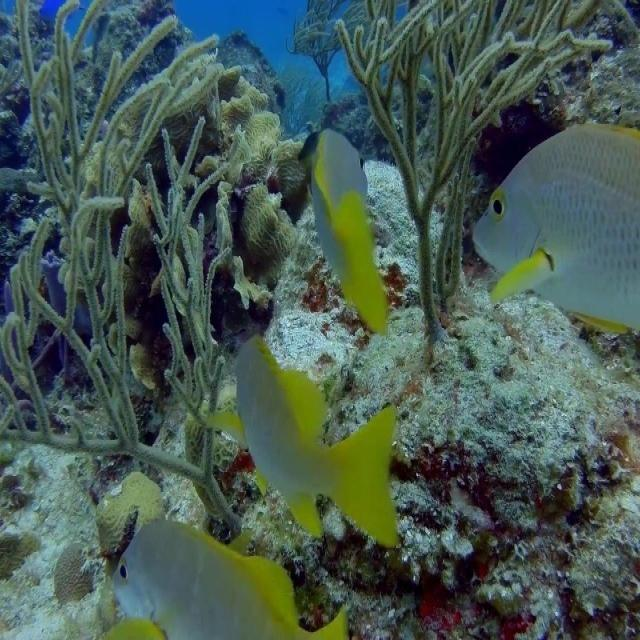aquatic plants: (0, 1, 242, 535), (337, 0, 616, 323)
fish: (208, 334, 400, 546), (472, 128, 639, 334), (109, 520, 349, 639), (312, 133, 392, 332)
